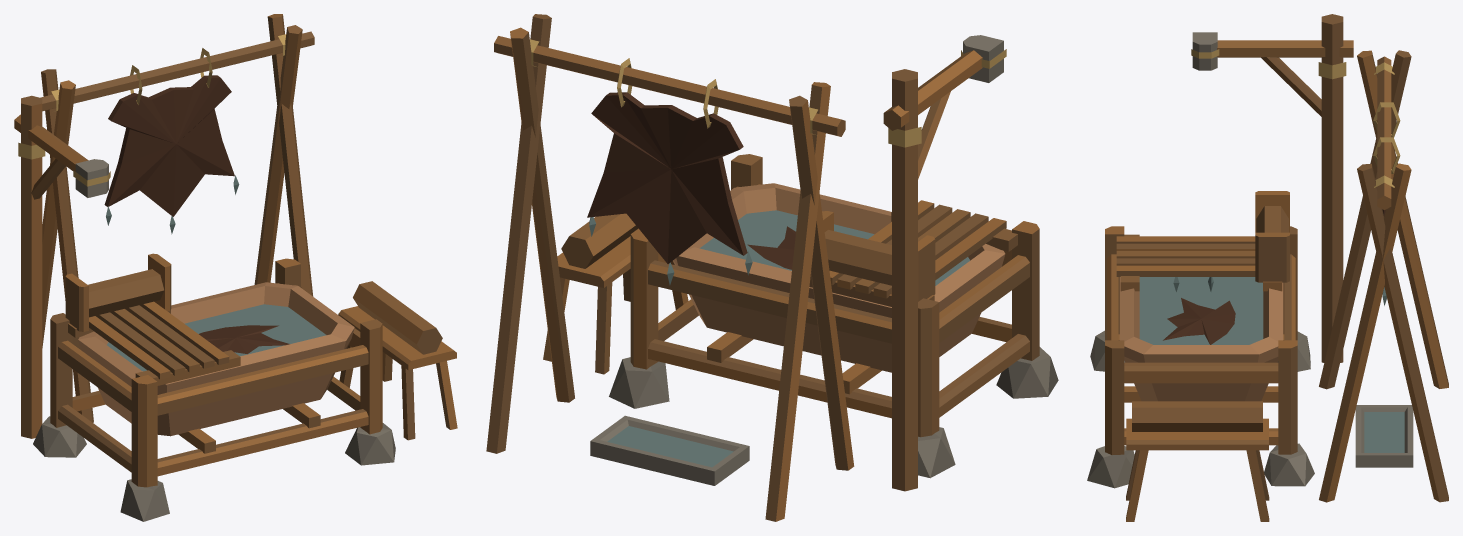
File: hide-waterproofing-vat-674ab6.glb
The picture shows the model from 3 angles, left to right: view 1: azimuth 30°, elevation 25°; view 2: azimuth 150°, elevation 25°; view 3: azimuth 270°, elevation 25°; orthographic projection. The views are drawn at different scales.
Visible parts, largest first — view 1: station, hide-draining, roller-loose, roller-mesh, hide-soaking; view 2: station, hide-draining, roller-mesh, roller-loose, hide-soaking; view 3: station, roller-loose, hide-soaking, roller-mesh, hide-draining.
Part boxes in pixels (box(x1,y1,x2,y2)): station: box(14, 14, 457, 521); hide-draining: box(104, 48, 239, 234); roller-loose: box(353, 281, 442, 354); roller-mesh: box(88, 269, 164, 317); hide-soaking: box(199, 325, 289, 353); station: box(486, 14, 1058, 521); hide-draining: box(587, 58, 752, 285); roller-mesh: box(824, 230, 891, 285); roller-loose: box(561, 213, 638, 268); hide-soaking: box(747, 226, 795, 269); station: box(1087, 14, 1448, 521); roller-loose: box(1132, 401, 1262, 431); hide-soaking: box(1163, 298, 1235, 344); roller-mesh: box(1256, 206, 1288, 232); hide-draining: box(1373, 102, 1400, 305).
Bounding box in the file's own units: 2.08 × 1.95 × 1.88.
